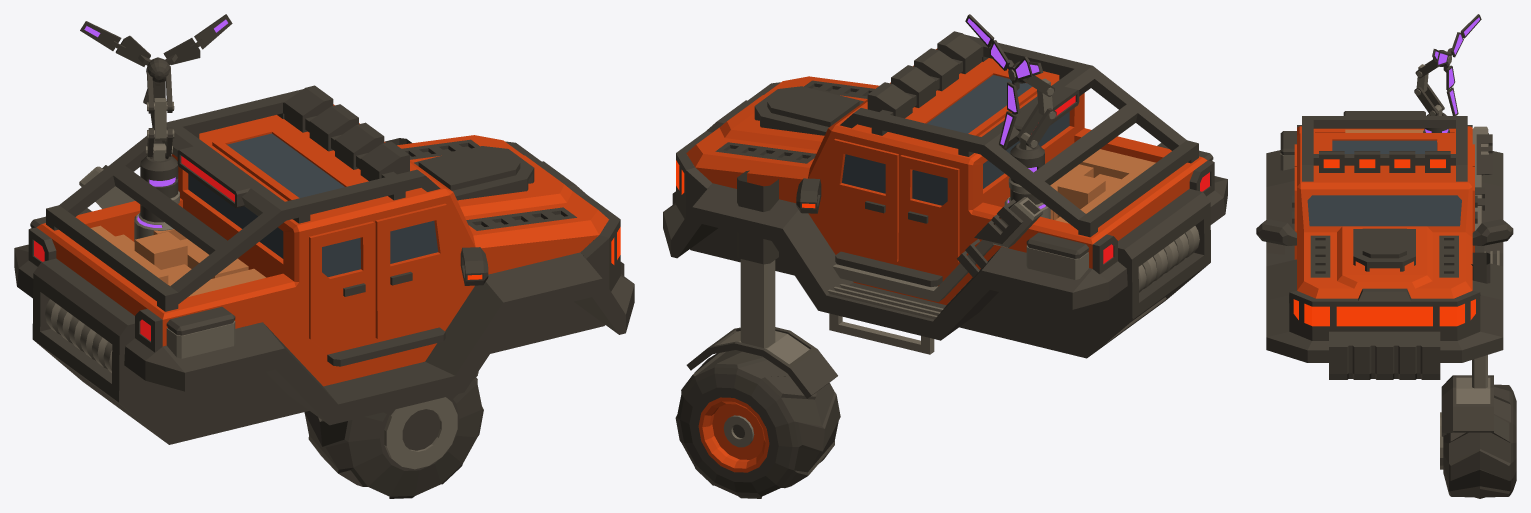
File: defaultAntenna.glb
The picture shows the model from 3 angles, left to right: view 1: azimuth 30°, elevation 25°; view 2: azimuth 150°, elevation 25°; view 3: azimuth 270°, elevation 25°; orthographic projection. The views are drawn at different scales.
Visible parts, largest first — view 1: bodyBlack, bodyRed, wheel.001, glass, bodyMetal, boxes, Sphere, wheelGuard.002, wheelGuard, Cylinder.008, stopLights; view 2: bodyBlack, bodyRed, wheel.001, bodyMetal, glass, boxes, wheel.002, Cylinder.016, wheelGuard, Cylinder.023, Sphere, wheelGuard.002 (+4 smaller); view 3: bodyBlack, bodyRed, glass, wheel.001, headlights, wheelGuard, wheelGuard.002, bodyMetal, Sphere, Cylinder.023, Cylinder.016, Plane.010 (+2 smaller).
Boxes of the visible parts, left/top/right/bottom form: bodyBlack: left=14, top=85, right=634, bottom=444; bodyRed: left=36, top=104, right=608, bottom=386; wheel.001: left=304, top=377, right=483, bottom=498; glass: left=188, top=133, right=437, bottom=276; bodyMetal: left=30, top=166, right=235, bottom=372; boxes: left=90, top=225, right=265, bottom=296; Sphere: left=80, top=14, right=232, bottom=129; wheelGuard.002: left=384, top=397, right=457, bottom=469; wheelGuard: left=384, top=371, right=478, bottom=450; Cylinder.008: left=140, top=154, right=178, bottom=222; stopLights: left=34, top=156, right=234, bottom=340; bodyBlack: left=663, top=31, right=1227, bottom=358; bodyRed: left=686, top=48, right=1207, bottom=304; wheel.001: left=675, top=350, right=840, bottom=498; bodyMetal: left=827, top=160, right=1212, bottom=354; glass: left=842, top=75, right=1069, bottom=205; boxes: left=1050, top=149, right=1155, bottom=223; wheel.002: left=698, top=397, right=769, bottom=472; Cylinder.016: left=740, top=259, right=775, bottom=347; wheelGuard: left=686, top=327, right=837, bottom=398; Cylinder.023: left=737, top=170, right=778, bottom=264; Sphere: left=965, top=14, right=1043, bottom=148; wheelGuard.002: left=719, top=331, right=809, bottom=364; bodyBlack: left=1256, top=111, right=1513, bottom=379; bodyRed: left=1294, top=126, right=1474, bottom=298; glass: left=1307, top=140, right=1461, bottom=226; wheel.001: left=1443, top=384, right=1516, bottom=498; headlights: left=1304, top=159, right=1464, bottom=326; wheelGuard: left=1441, top=375, right=1493, bottom=436; wheelGuard.002: left=1440, top=377, right=1490, bottom=469; bodyMetal: left=1280, top=126, right=1499, bottom=265; Sphere: left=1432, top=14, right=1481, bottom=115; Cylinder.023: left=1471, top=252, right=1490, bottom=283; Cylinder.016: left=1472, top=355, right=1487, bottom=388; Plane.010: left=1434, top=17, right=1479, bottom=114.
Bounding box in the file's own units: 2.99 × 3.06 × 1.91.
